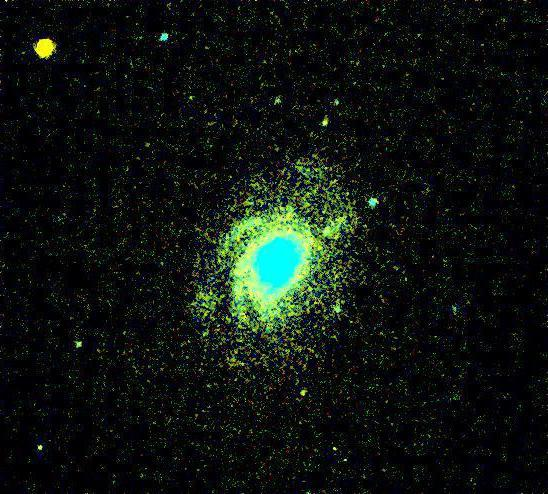star: (30, 35, 60, 65)
